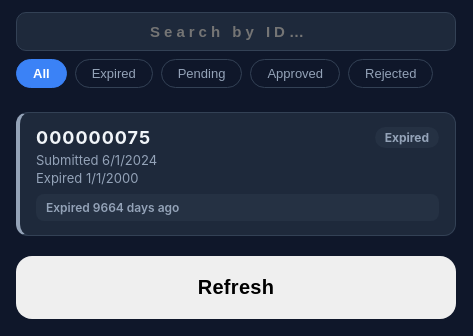
MySubmissions — filter chips › shows "No pending submissions" when Pending filter has no matches
The image size is (473, 336).
expect the text "000000075" is shown: met, box [36,127,151,148]
Click the button "Pending" at (202, 74), box [161,59,242,88]
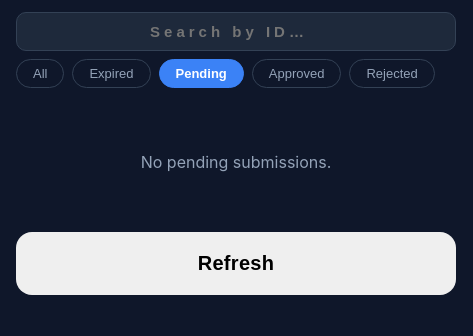
expect the text "No pending submissions." is shown: met, box [141,152,331,172]
